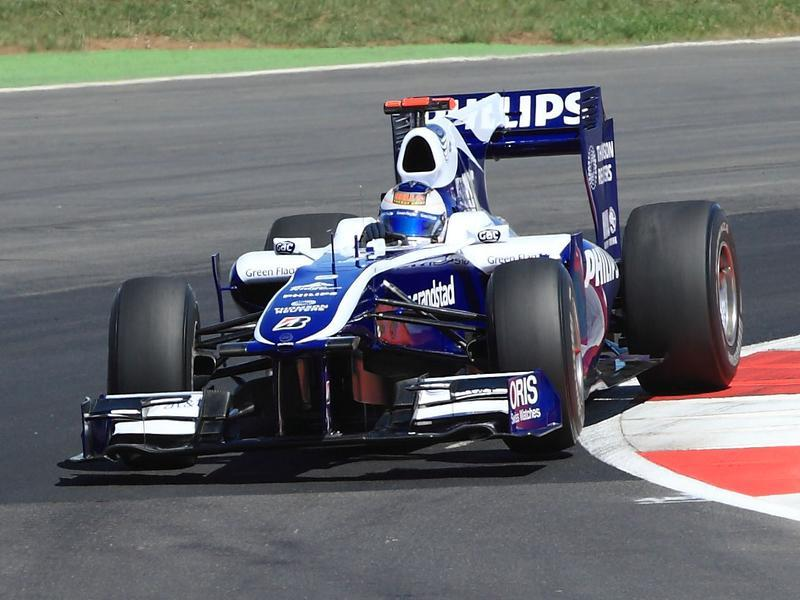f1: (87, 77, 753, 473)
